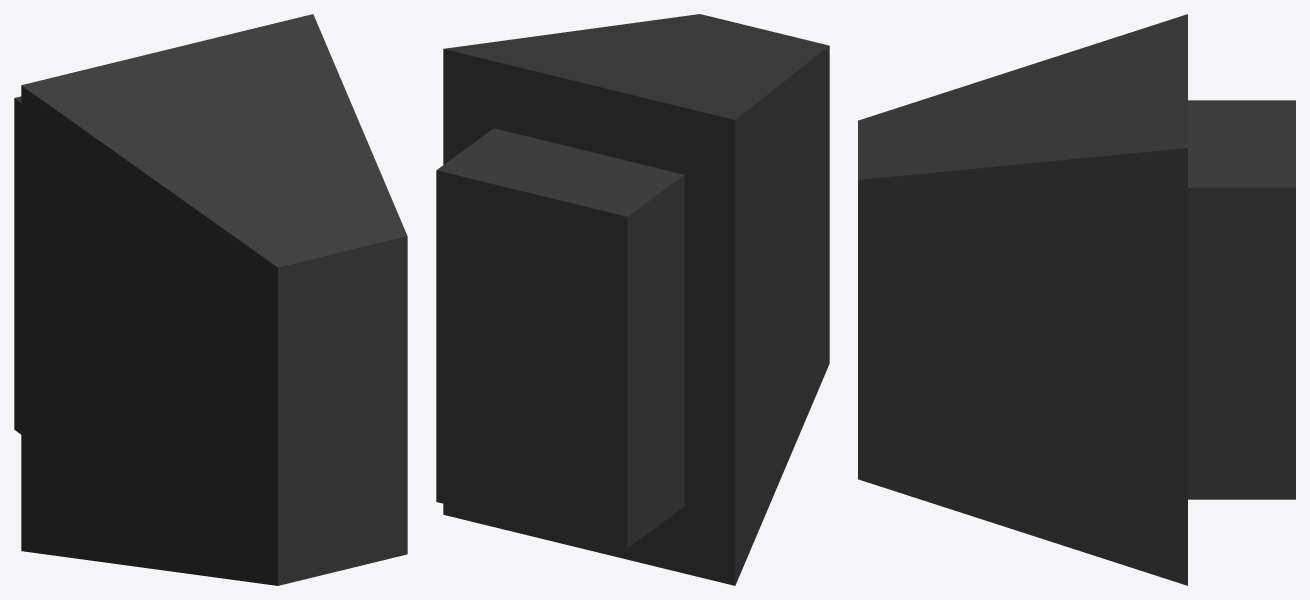
File: SMG3_06_4.fbx
3 views of the same model, side by side, from view 1: azimuth 30°, elevation 25°; view 2: azimuth 150°, elevation 25°; view 3: azimuth 270°, elevation 25° (orthographic). The views are drawn at different scales.
Parts seen in each view (by area): view 1: SMG3_06_4; view 2: SMG3_06_4; view 3: SMG3_06_4.
Part boxes in pixels (x1=…): SMG3_06_4: x1=14, y1=14, x2=407, y2=585; SMG3_06_4: x1=436, y1=14, x2=829, y2=585; SMG3_06_4: x1=858, y1=14, x2=1295, y2=585.
Bounding box in the file's own units: 0.0119 × 0.0181 × 0.0164.
